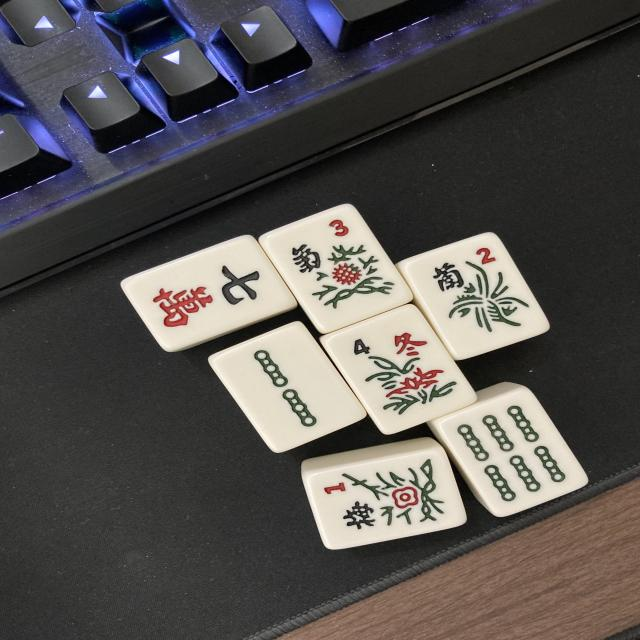f1: (309, 454, 463, 544)
f2: (405, 234, 550, 359)
f3: (270, 203, 410, 322)
ff4: (324, 306, 468, 435)
m7: (138, 248, 286, 346)
s2: (231, 330, 350, 449)
s6: (444, 392, 577, 515)
